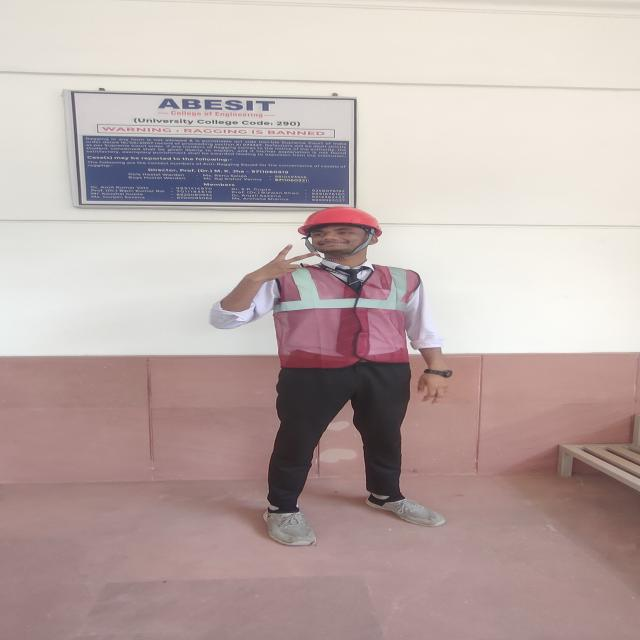safe: (274, 206, 451, 545)
